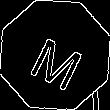M_NE: (23, 22, 87, 88)
